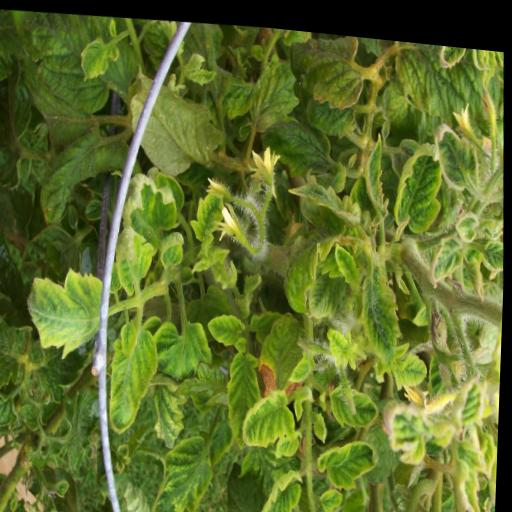Yellow Leaf Curl Virus: (24, 260, 104, 359), (108, 309, 165, 435), (355, 232, 407, 368), (284, 23, 364, 108), (145, 427, 217, 512), (390, 129, 446, 228), (244, 46, 301, 129), (258, 295, 310, 385), (226, 338, 267, 451), (239, 377, 299, 446), (315, 428, 384, 487), (113, 216, 156, 305), (280, 228, 323, 308), (433, 110, 479, 181), (377, 333, 435, 385), (150, 376, 190, 447), (259, 458, 308, 512), (328, 374, 383, 421), (76, 29, 121, 86), (189, 180, 227, 246), (427, 223, 467, 281), (307, 267, 349, 313), (205, 303, 248, 346)
